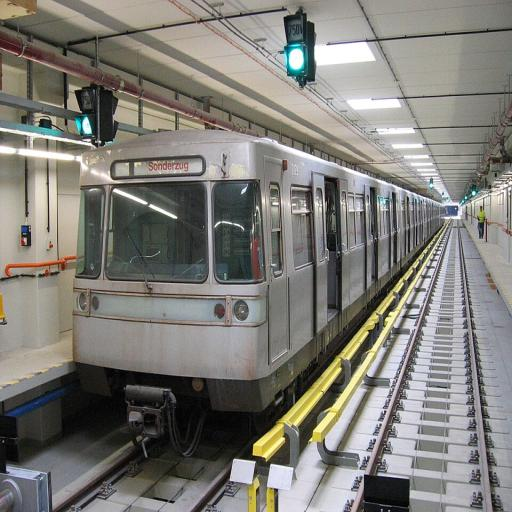Silberpfeil: (64, 128, 448, 438)
